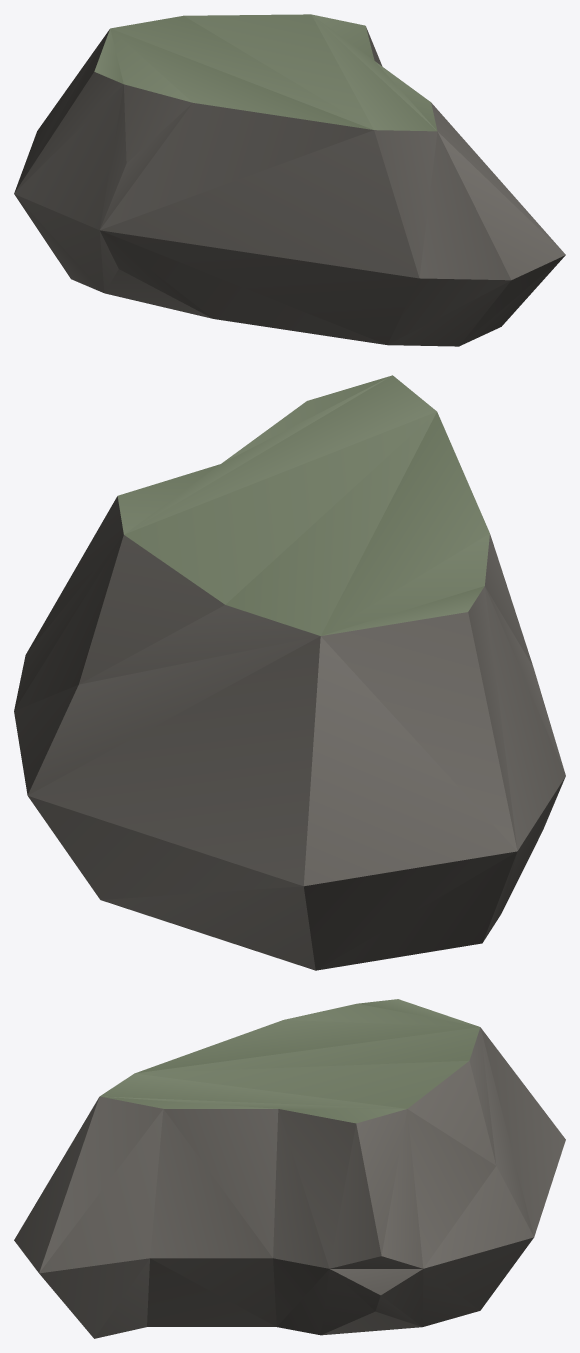
File: rockB.glb
3 renders of one model, top to bottom at view 1: azimuth 30°, elevation 25°; view 2: azimuth 150°, elevation 25°; view 3: azimuth 270°, elevation 25°, orthographic. The views are drawn at different scales.
Parts seen in each view (by area): view 1: rock_largeB; view 2: rock_largeB; view 3: rock_largeB.
Boxes of the visible parts, left/top/right/bottom form: rock_largeB: left=14, top=14, right=565, bottom=346; rock_largeB: left=14, top=375, right=565, bottom=970; rock_largeB: left=14, top=999, right=565, bottom=1338.
Bounding box in the file's own units: 0.7668 × 0.4303 × 1.02.
